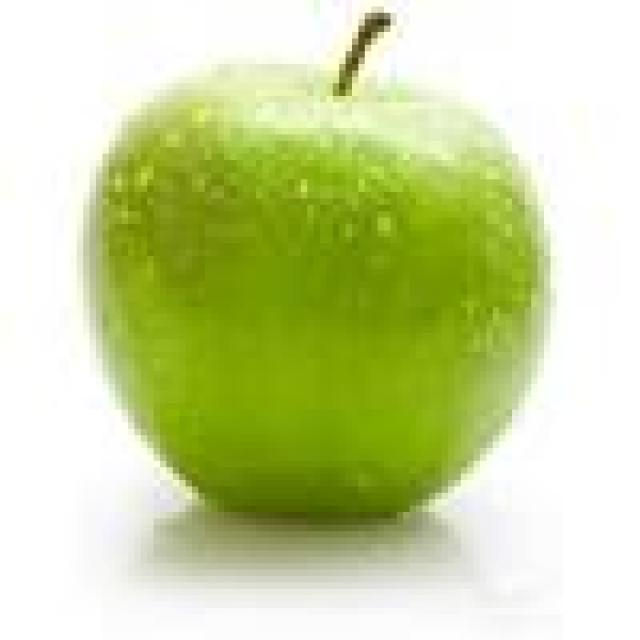50-_ripeness: (90, 36, 556, 514)
